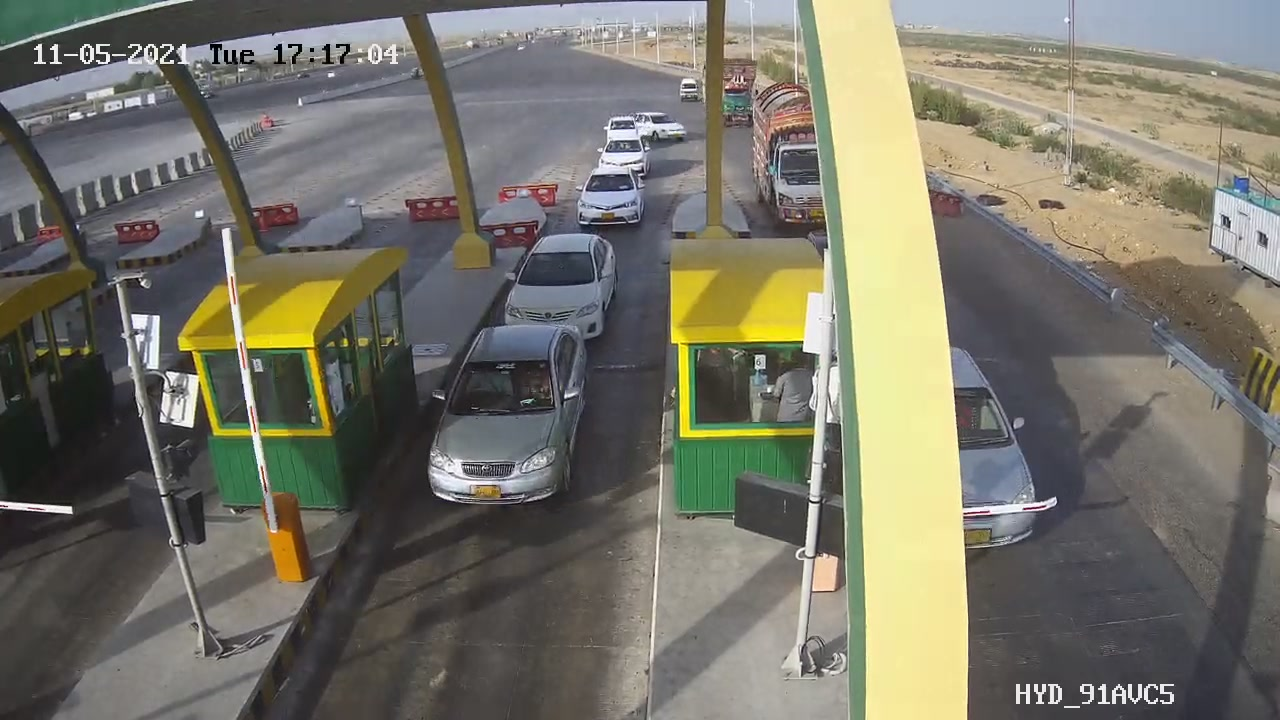F1: (411, 314, 607, 521), (494, 226, 631, 357), (561, 160, 659, 236)
